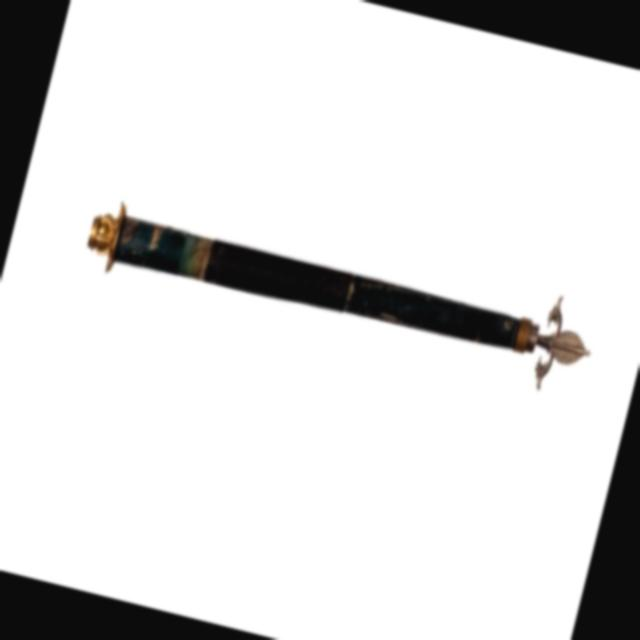spear: (49, 120, 622, 450)
